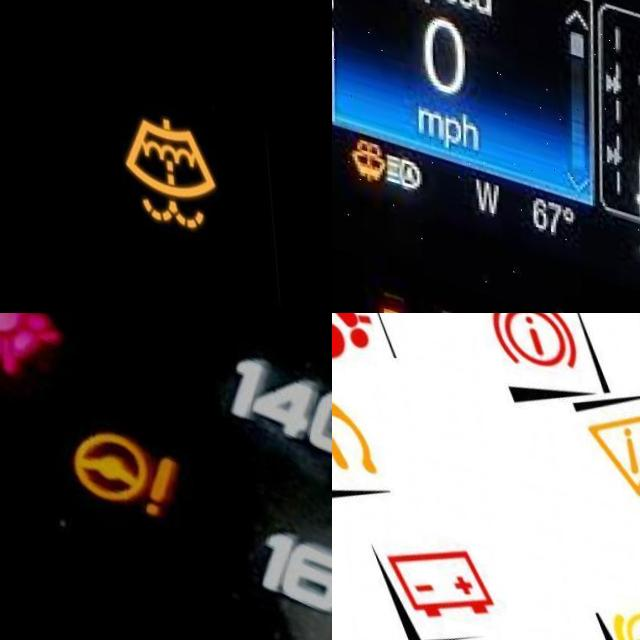Washer Fluid: (340, 127, 378, 178)
